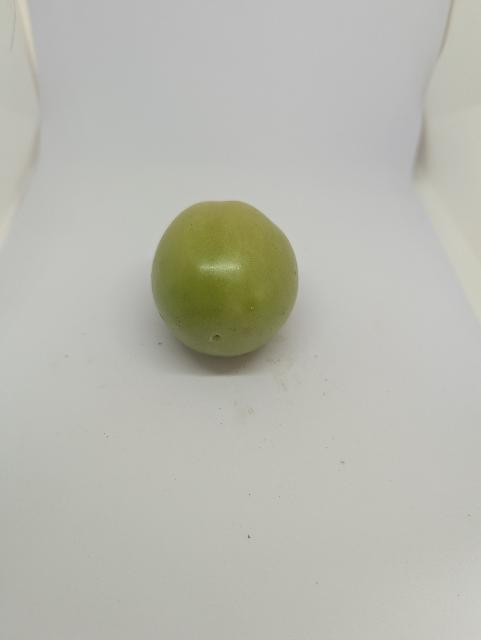green: (144, 189, 309, 368)
